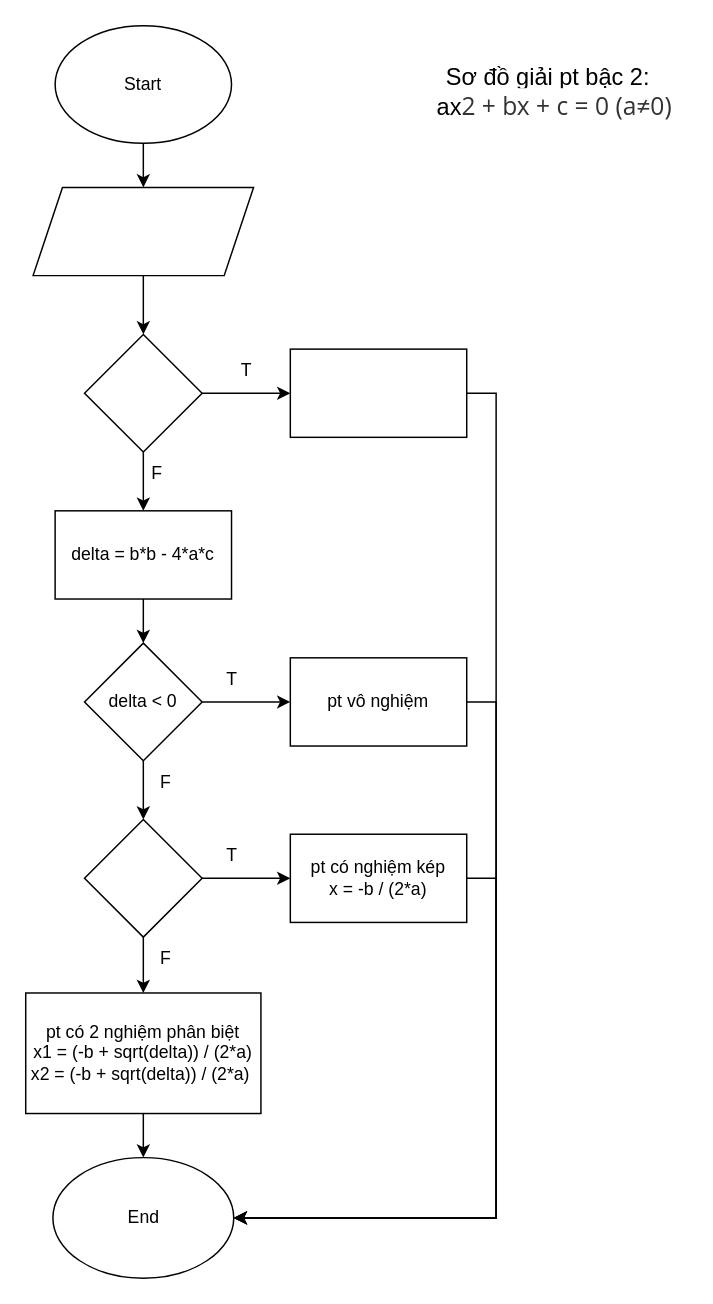
The diagram is 713 pixels wide and 1304 high, and some of its shapes have lost their labels. Here are the shapes that lost their labels. From the top down, the box of each, then its label:
(32, 186, 254, 276): Nhập a,b
(83, 333, 202, 452): a = 0
(289, 348, 467, 437): pt bậc 1
(83, 818, 202, 937): delta = 0
